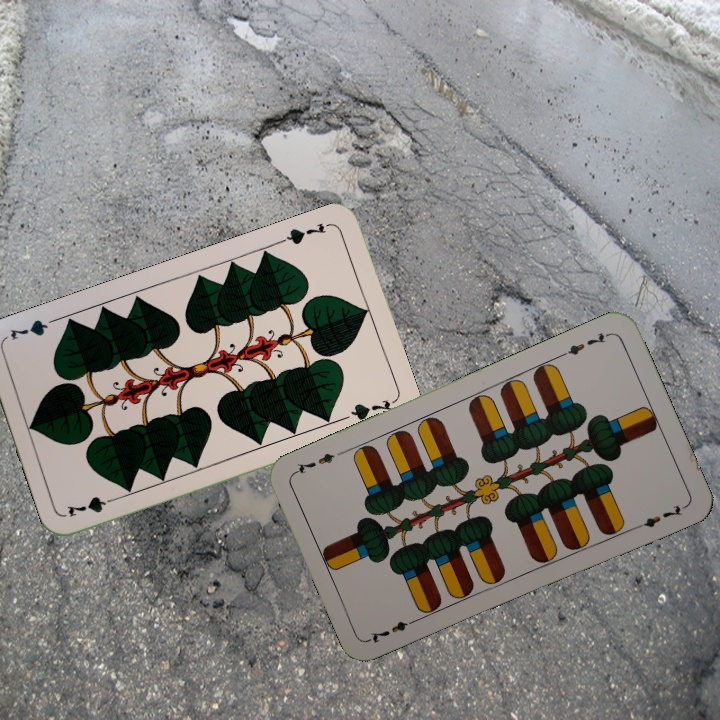E7: (365, 614, 422, 646), (557, 329, 613, 360)
G7: (276, 218, 334, 247), (63, 492, 122, 520)
